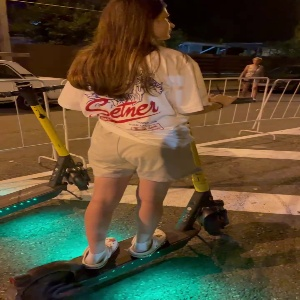human on a scooter: (4, 1, 256, 300)
